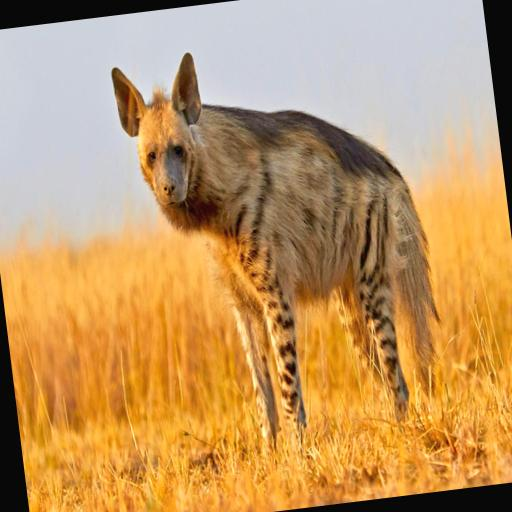hyenas: (95, 33, 455, 512)
